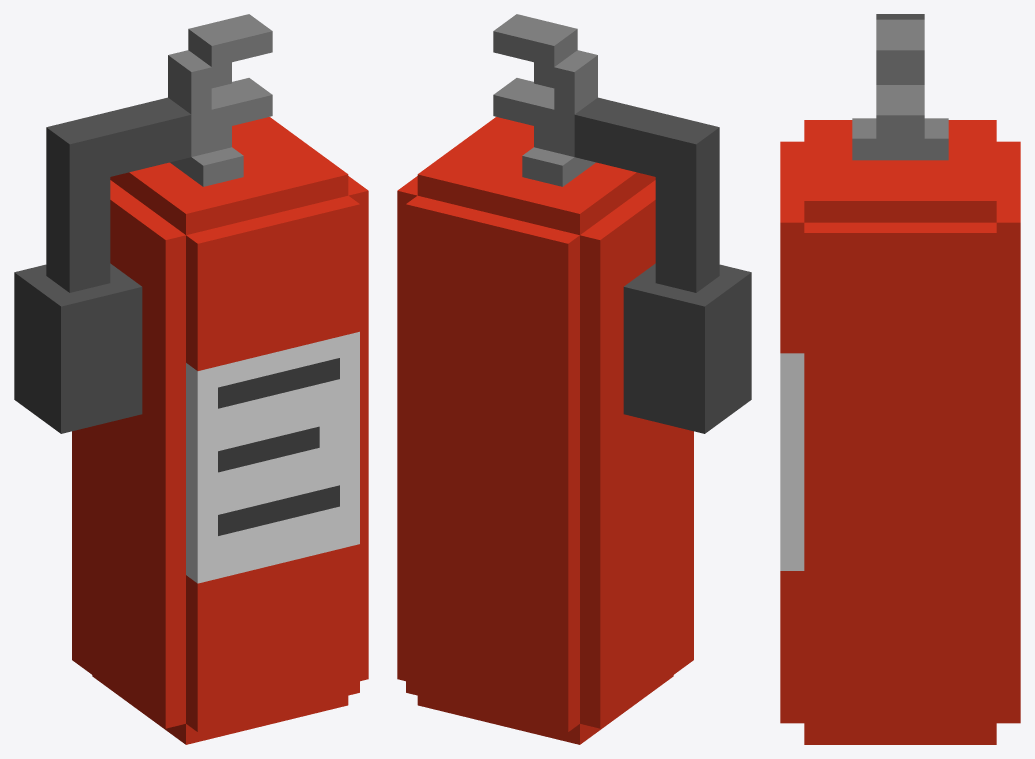
File: SchoolPack-20-extinguisher.obj
3 renders of one model, left to right at view 1: azimuth 30°, elevation 25°; view 2: azimuth 150°, elevation 25°; view 3: azimuth 270°, elevation 25°, orthographic. The views are drawn at different scales.
Parts seen in each view (by area): view 1: extinguisher; view 2: extinguisher; view 3: extinguisher.
Boxes of the visible parts, <box> form: extinguisher: <box>14,14,368,744</box>; extinguisher: <box>397,14,751,744</box>; extinguisher: <box>780,14,1020,744</box>.
Size of the model in its own units: 1.4 by 3.1 by 1.
1 material, 1 textured.
